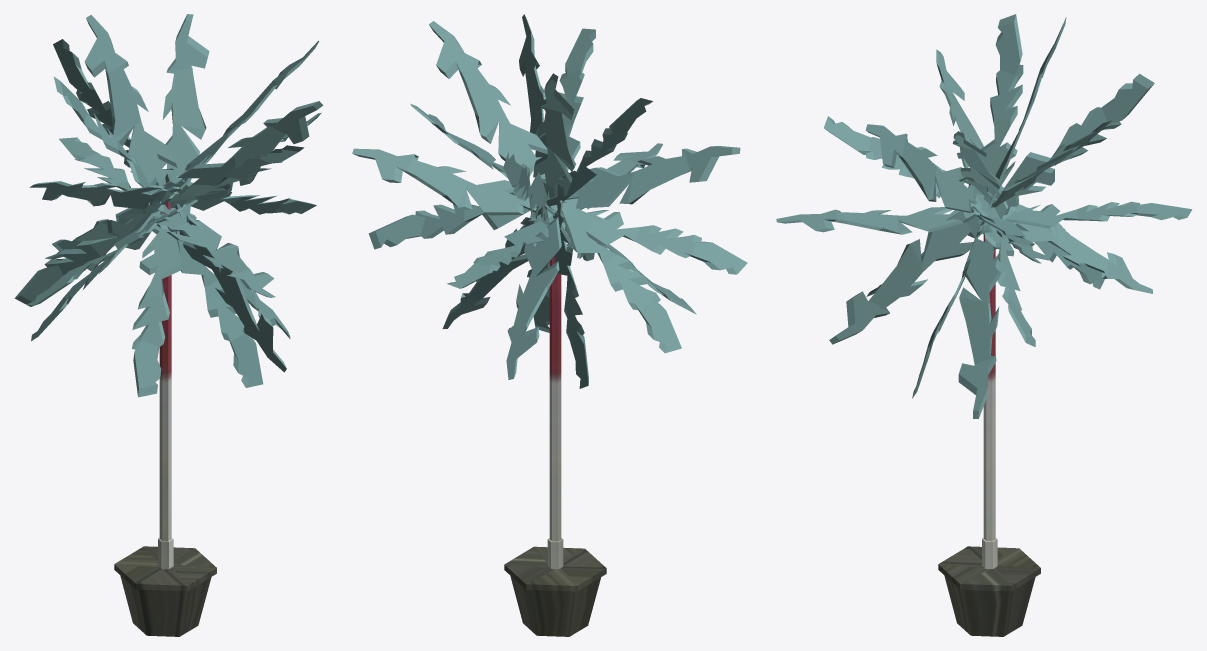
File: kembangkelapa.fbx
3 renders of one model, left to right at view 1: azimuth 30°, elevation 25°; view 2: azimuth 150°, elevation 25°; view 3: azimuth 270°, elevation 25°, orthographic.
Parts seen in each view (by area): view 1: kembangkelapa.002, kembangkelapa.004; view 2: kembangkelapa.002, kembangkelapa.004; view 3: kembangkelapa.002, kembangkelapa.004.
Part boxes in pixels (bbox=[...]): kembangkelapa.002: bbox=[14, 14, 323, 397]; kembangkelapa.004: bbox=[114, 201, 216, 636]; kembangkelapa.002: bbox=[352, 14, 747, 388]; kembangkelapa.004: bbox=[504, 256, 606, 636]; kembangkelapa.002: bbox=[776, 14, 1192, 418]; kembangkelapa.004: bbox=[938, 234, 1040, 636].
Size of the model in its own units: 212 by 349 by 223.
